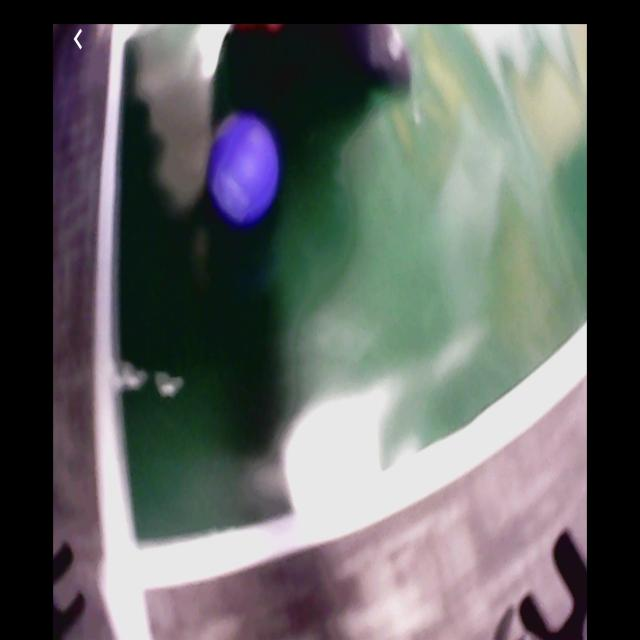ball: (210, 117, 278, 226)
